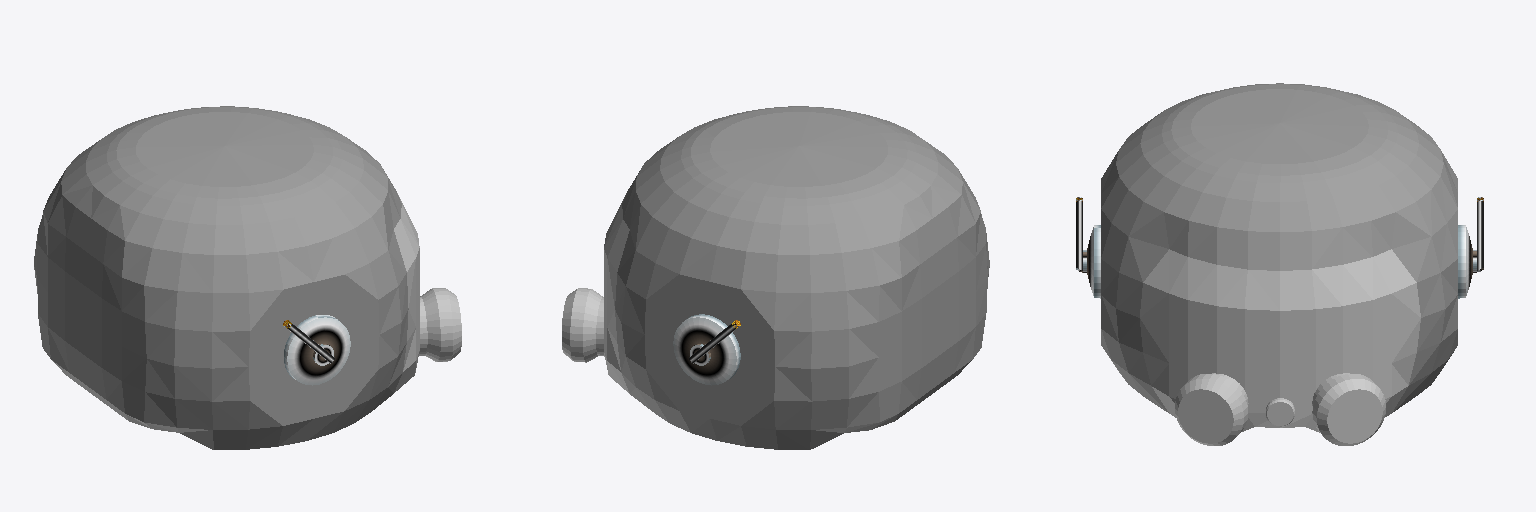
3 views of the same model, side by side, from view 1: azimuth 30°, elevation 25°; view 2: azimuth 150°, elevation 25°; view 3: azimuth 270°, elevation 25° (orthographic).
Visible parts, largest first — view 1: Helmet_draconic_helmet.001, Respirator2_Cylinder.003, Earpiece1_Cylinder.005; view 2: Helmet_draconic_helmet.001, Respirator2_Cylinder.003, Earpiece1_Cylinder.005; view 3: Helmet_draconic_helmet.001, Respirator2_Cylinder.003, Earpiece1_Cylinder.005.
Part boxes in pixels (x1,y1,x2,y2): Helmet_draconic_helmet.001: (34, 106, 408, 449); Respirator2_Cylinder.003: (394, 193, 461, 392); Earpiece1_Cylinder.005: (283, 315, 350, 385); Helmet_draconic_helmet.001: (615, 106, 989, 449); Respirator2_Cylinder.003: (562, 193, 629, 393); Earpiece1_Cylinder.005: (673, 314, 740, 385); Helmet_draconic_helmet.001: (1101, 83, 1457, 412); Respirator2_Cylinder.003: (1140, 249, 1420, 445); Earpiece1_Cylinder.005: (1076, 197, 1483, 298).
Size of the model in its own units: 10.76 by 7 by 11.02.
Materials: 3 (1 with a texture image).